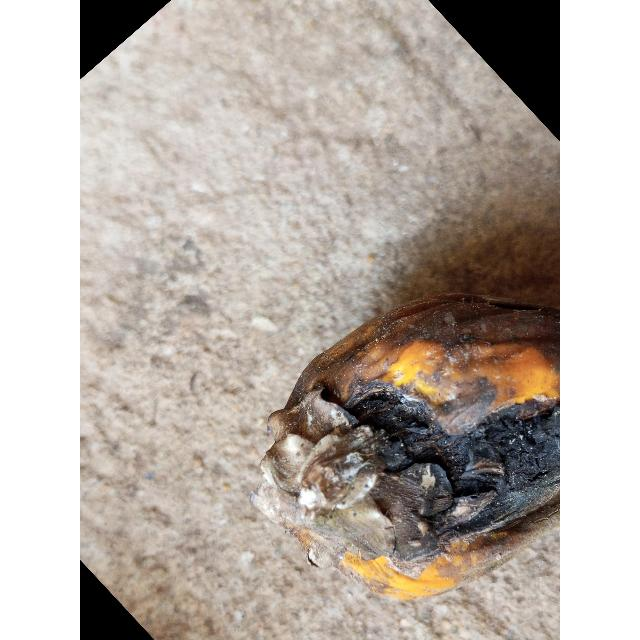damaged: (251, 295, 560, 600)
